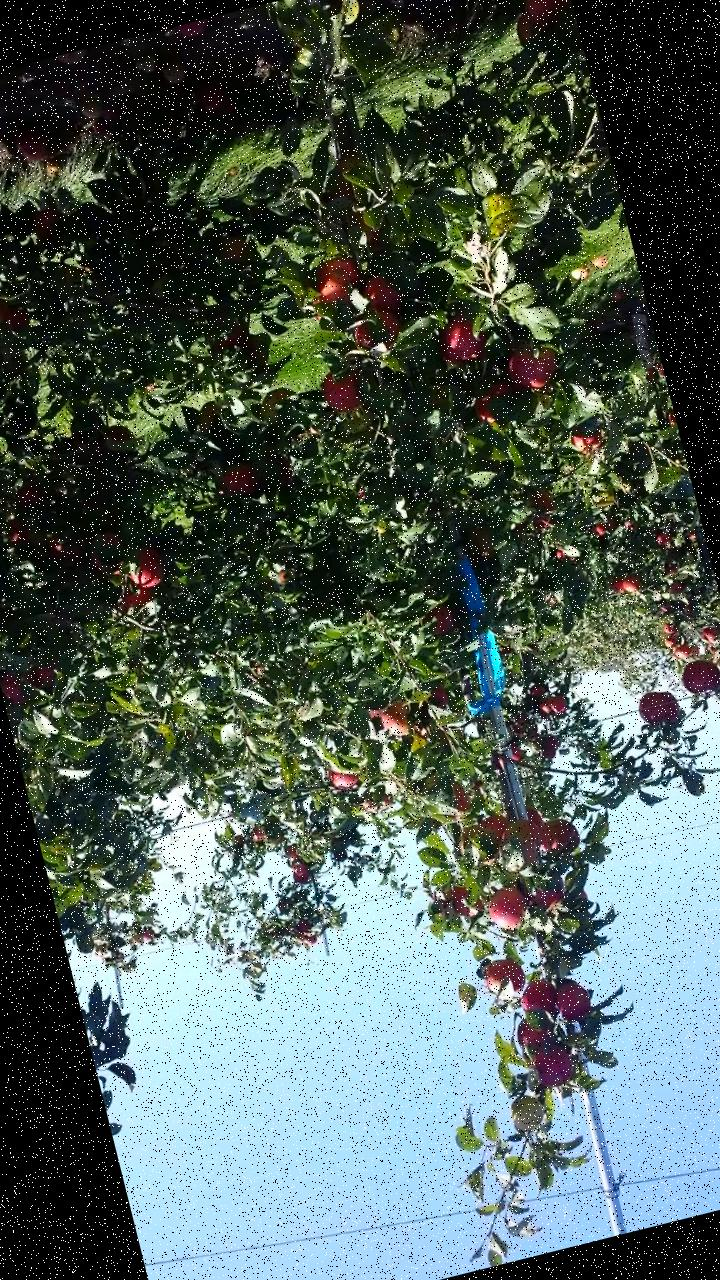Apple: (434, 309, 492, 368), (306, 252, 366, 308), (503, 341, 563, 396), (480, 881, 538, 937), (319, 150, 372, 207), (526, 1042, 582, 1094), (316, 364, 368, 418), (349, 307, 406, 356), (456, 819, 503, 869), (472, 954, 523, 1000), (468, 381, 519, 427), (344, 205, 388, 258), (633, 682, 682, 728), (87, 531, 130, 583), (256, 382, 302, 430), (122, 546, 168, 593), (512, 972, 560, 1016), (496, 816, 545, 859), (362, 266, 404, 316), (675, 656, 719, 703), (502, 1092, 550, 1134), (553, 976, 594, 1024), (374, 700, 416, 746), (41, 526, 82, 573), (536, 812, 579, 856), (496, 833, 542, 873), (522, 876, 568, 914), (416, 600, 456, 642), (518, 0, 574, 30), (442, 882, 481, 922), (513, 1014, 553, 1052), (512, 9, 550, 48), (25, 202, 61, 242), (20, 662, 64, 694), (568, 424, 609, 458), (194, 398, 229, 434), (484, 807, 518, 844), (221, 464, 257, 498), (0, 667, 27, 711), (210, 322, 246, 354), (116, 583, 154, 613), (469, 528, 498, 566), (327, 765, 367, 792), (447, 778, 473, 819), (1, 515, 32, 548), (13, 478, 44, 509), (221, 235, 254, 264), (352, 470, 383, 498), (524, 804, 548, 840), (490, 742, 526, 766), (527, 486, 555, 516), (2, 307, 31, 335), (105, 421, 136, 446), (0, 297, 14, 327), (431, 688, 450, 709), (368, 704, 390, 721), (0, 606, 6, 637)
